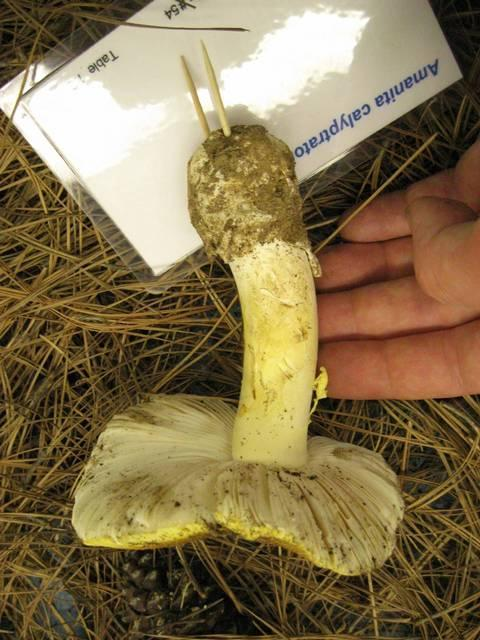edible_mushroom: (70, 122, 405, 576)
